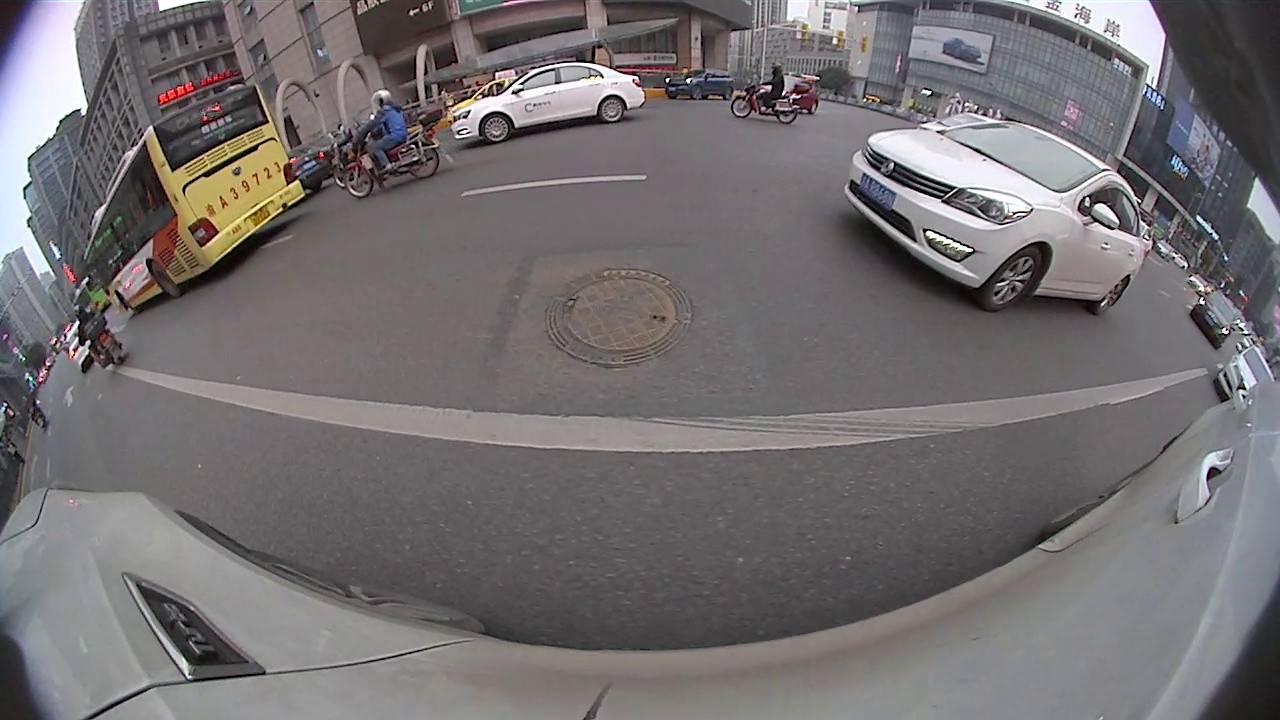bus: (83, 80, 300, 320)
car: (840, 114, 1150, 319), (450, 59, 648, 152), (1217, 347, 1274, 411), (1190, 288, 1248, 346)
front: (978, 245, 1045, 315), (342, 162, 375, 201), (479, 113, 514, 147), (729, 93, 755, 120)
rear: (1090, 275, 1129, 319), (405, 144, 443, 182), (147, 260, 182, 299), (598, 95, 626, 124), (775, 109, 799, 127)
rider: (336, 90, 442, 200), (730, 61, 803, 123), (74, 307, 121, 376)
